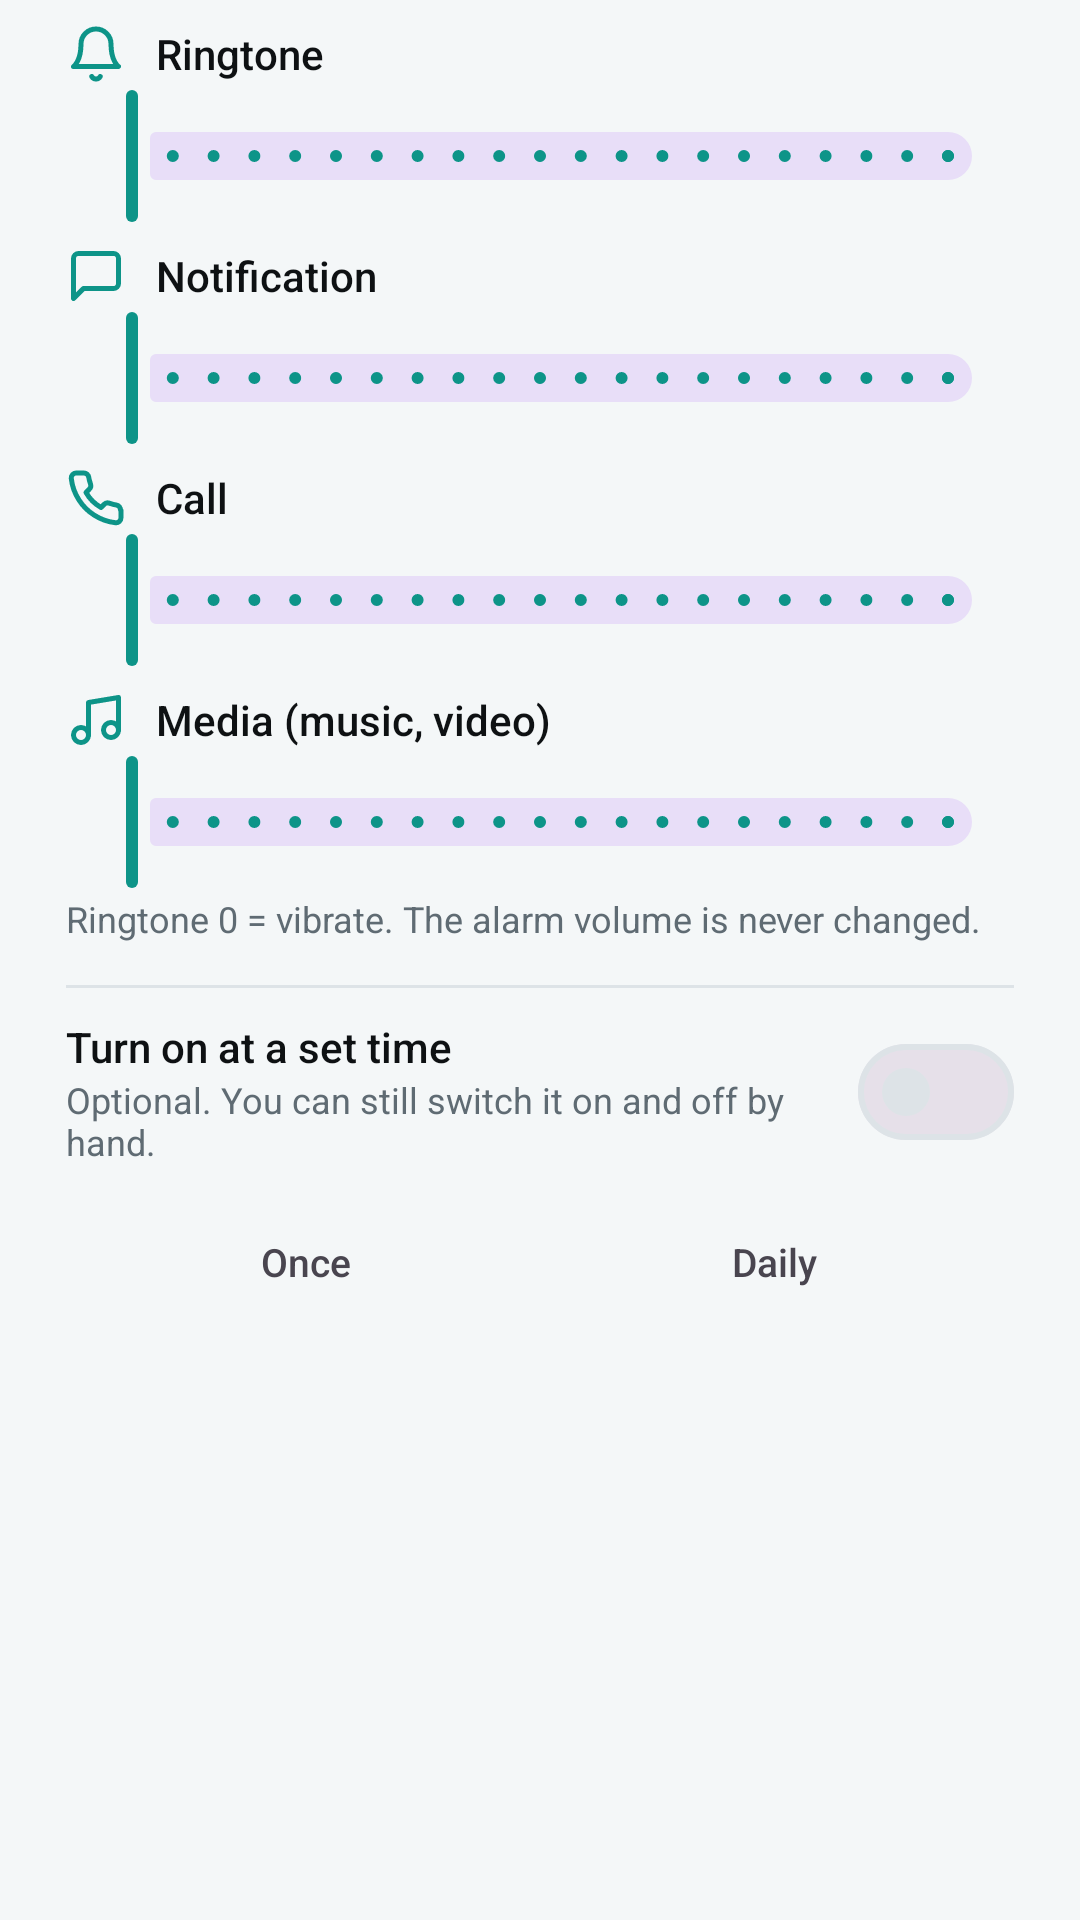

Where to tap for icons on this 1080w x 1920h app screen, as (x=x, y=y):
bell: (x=96, y=54)
message: (x=96, y=276)
phone: (x=96, y=498)
